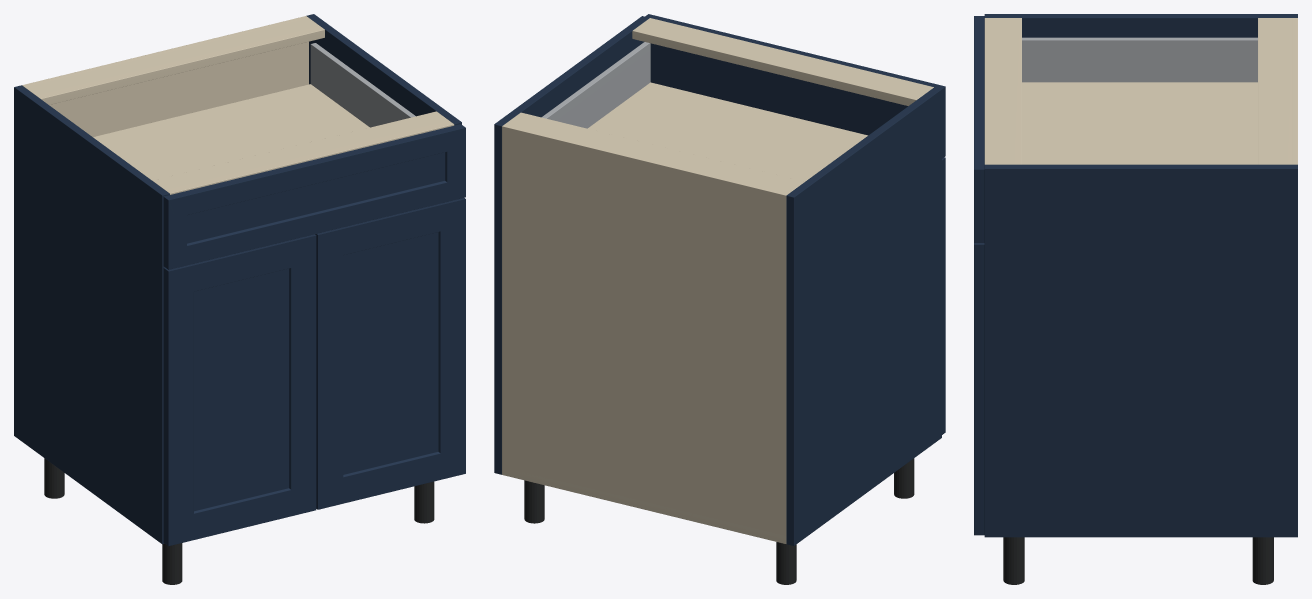
File: oppein-ply-bss-b27.glb
3 renders of one model, left to right at view 1: azimuth 30°, elevation 25°; view 2: azimuth 150°, elevation 25°; view 3: azimuth 270°, elevation 25°, orthographic. The views are drawn at different scales.
Visible parts, largest first — view 1: Cabinet side, Door, Door.001, Drawer front, Drawer floor, Cabinet back, Top support rail, Top support rail.001, Drawer side.001, Cabinet side.001, Adjustable foot.001, Adjustable foot.003 (+1 smaller); view 2: Cabinet back, Cabinet side, Drawer floor, Drawer front, Top support rail.001, Cabinet side.001, Top support rail, Drawer side.001, Cabinet bottom, Door, Adjustable foot, Adjustable foot.002 (+1 smaller); view 3: Cabinet side.001, Drawer floor, Drawer side, Cabinet side, Top support rail.001, Top support rail, Door.001, Drawer front, Adjustable foot.003, Adjustable foot.002, Cabinet back.
Part boxes in pixels (x1=…): Cabinet side: x1=14, y1=85, x2=169, y2=544; Door: x1=163, y1=234, x2=316, y2=546; Door.001: x1=315, y1=198, x2=465, y2=509; Drawer front: x1=163, y1=124, x2=465, y2=269; Drawer floor: x1=93, y1=84, x2=369, y2=180; Cabinet back: x1=22, y1=16, x2=308, y2=136; Top support rail: x1=25, y1=18, x2=324, y2=104; Top support rail.001: x1=152, y1=111, x2=454, y2=194; Drawer side.001: x1=310, y1=43, x2=415, y2=127; Cabinet side.001: x1=306, y1=14, x2=461, y2=125; Adjustable foot.001: x1=162, y1=543, x2=182, y2=584; Adjustable foot.003: x1=414, y1=481, x2=434, y2=523; Cabinet back: x1=502, y1=124, x2=788, y2=543; Cabinet side: x1=786, y1=87, x2=941, y2=545; Drawer floor: x1=588, y1=82, x2=867, y2=181; Drawer front: x1=645, y1=14, x2=945, y2=158; Top support rail.001: x1=632, y1=18, x2=933, y2=105; Cabinet side.001: x1=494, y1=16, x2=649, y2=474; Top support rail: x1=505, y1=112, x2=804, y2=193; Drawer side.001: x1=541, y1=42, x2=650, y2=128; Cabinet bottom: x1=502, y1=469, x2=786, y2=543; Door: x1=942, y1=157, x2=945, y2=434; Adjustable foot: x1=776, y1=542, x2=796, y2=584; Adjustable foot.002: x1=524, y1=480, x2=544, y2=523; Cabinet side.001: x1=984, y1=164, x2=1297, y2=537; Drawer floor: x1=1022, y1=82, x2=1257, y2=164; Drawer side: x1=1022, y1=37, x2=1257, y2=82; Cabinet side: x1=984, y1=14, x2=1297, y2=37; Top support rail.001: x1=984, y1=18, x2=1021, y2=164; Top support rail: x1=1258, y1=18, x2=1291, y2=164; Door.001: x1=974, y1=243, x2=984, y2=535; Drawer front: x1=974, y1=16, x2=984, y2=242; Adjustable foot.003: x1=1003, y1=537, x2=1024, y2=584; Adjustable foot.002: x1=1252, y1=537, x2=1273, y2=584; Cabinet back: x1=1292, y1=18, x2=1297, y2=164.
Size of the model in its own units: 0.6858 by 0.8763 by 0.6064.
